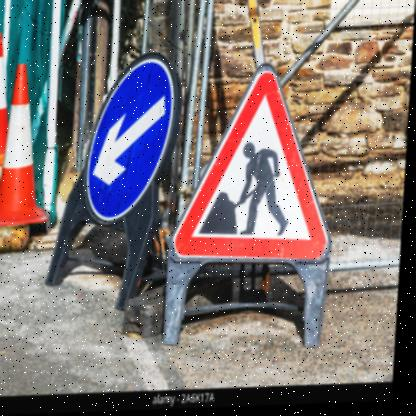Keep left: (87, 49, 182, 229)
